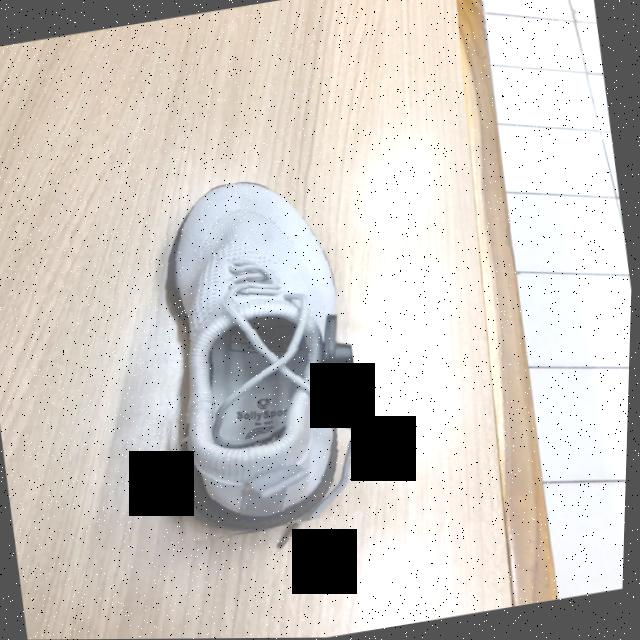shoe: (166, 183, 360, 533)
